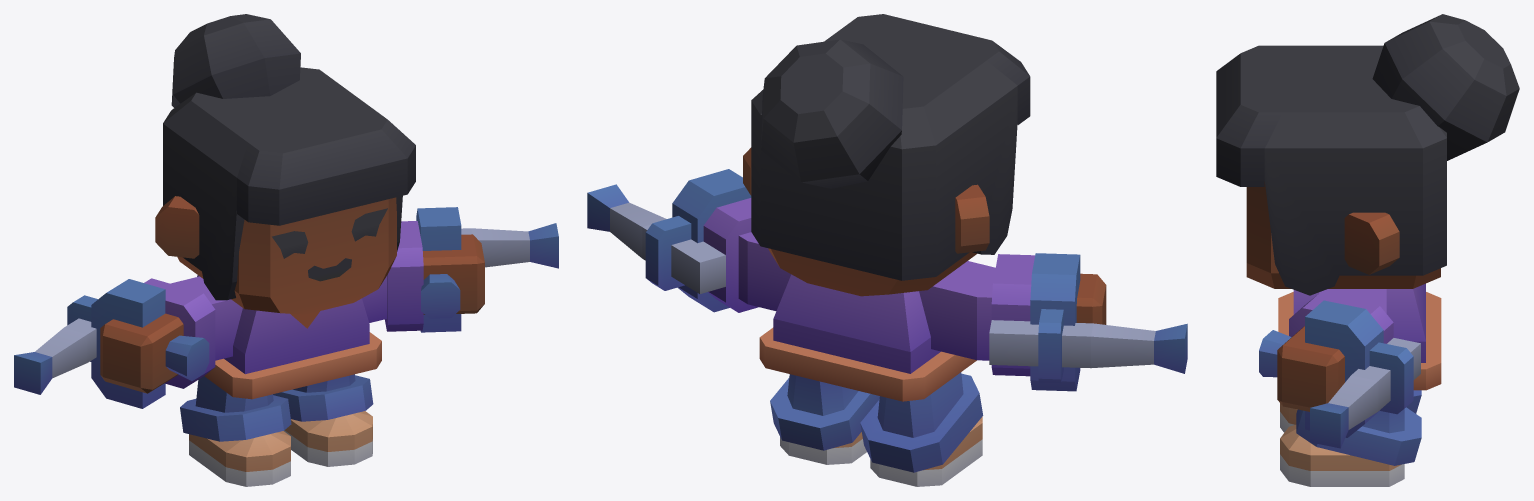
Rendered from citizen-female-a.glb.
3 views of the same model, side by side, from view 1: azimuth 30°, elevation 25°; view 2: azimuth 150°, elevation 25°; view 3: azimuth 270°, elevation 25° (orthographic). The views are drawn at different scales.
Parts seen in each view (by area): view 1: citizen-female-a; view 2: citizen-female-a; view 3: citizen-female-a.
Boxes of the visible parts, bbox=[...] form: citizen-female-a: bbox=[14, 14, 558, 486]; citizen-female-a: bbox=[587, 14, 1187, 486]; citizen-female-a: bbox=[1216, 14, 1519, 486].
Size of the model in its own units: 1.42 by 1 by 0.6442.
